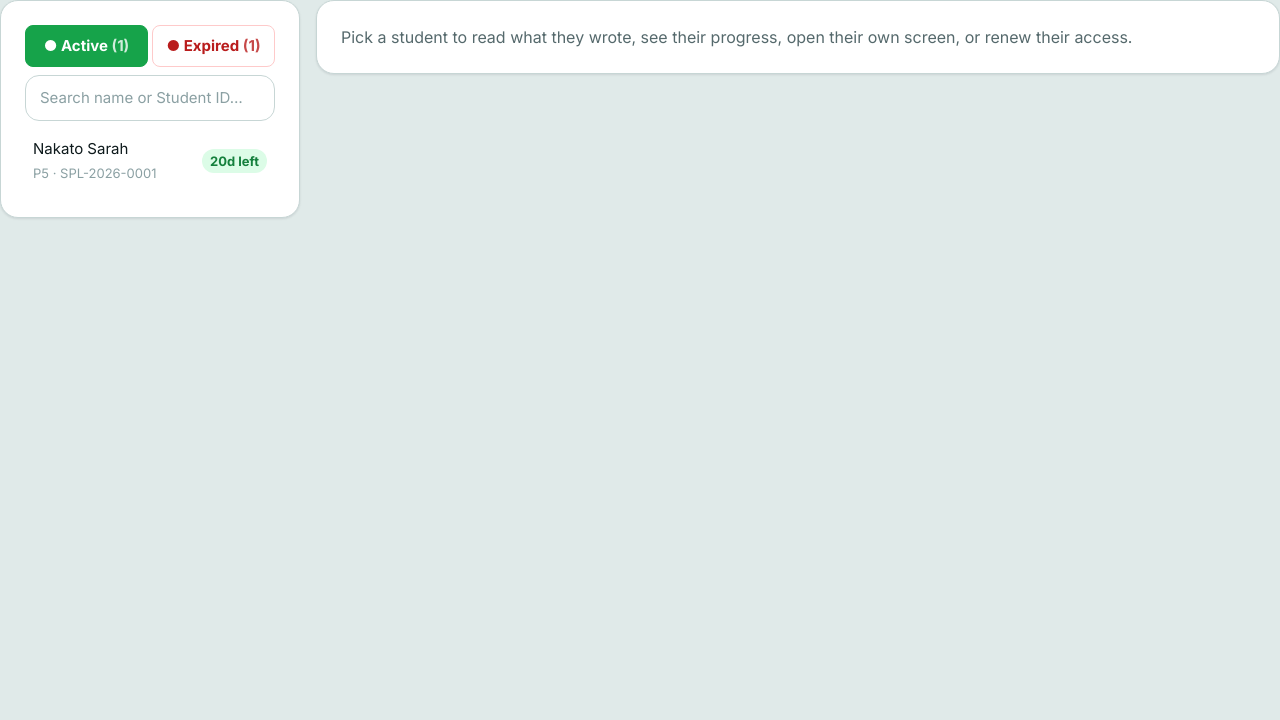
Test case: Students · Active and Deactivated tabs › renews an expired student for the chosen number of days
Click the button "● Expired (1)" at (214, 46), box left=152, top=25, right=275, bottom=67
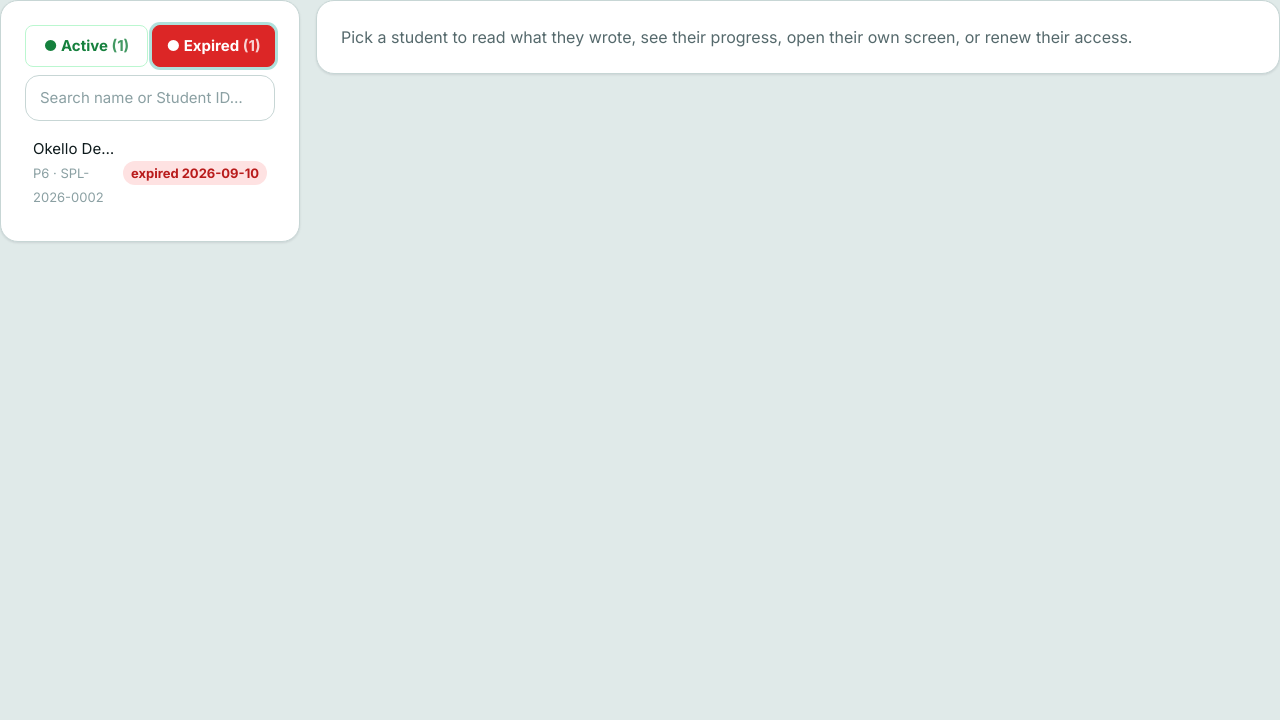
Click the text "Okello Denis" at (76, 149), box left=33, top=137, right=119, bottom=161
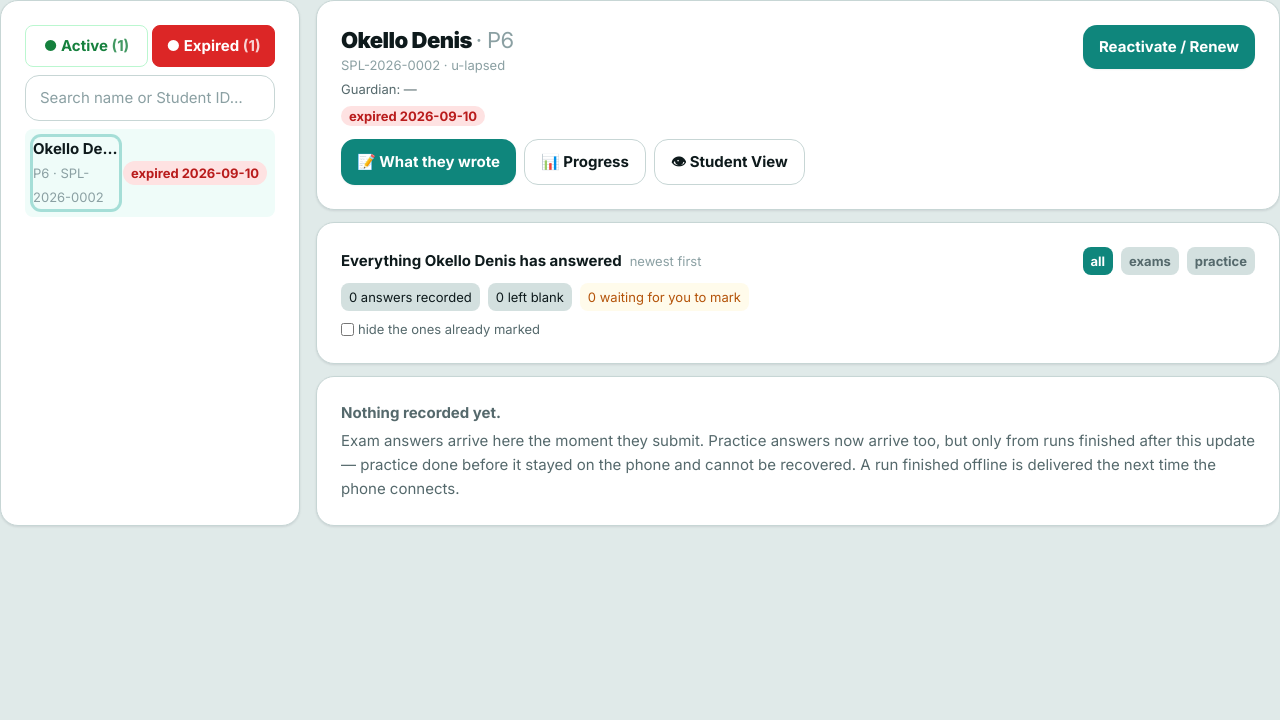
Click the button "Reactivate / Renew" at (1169, 47), box left=1083, top=25, right=1255, bottom=69
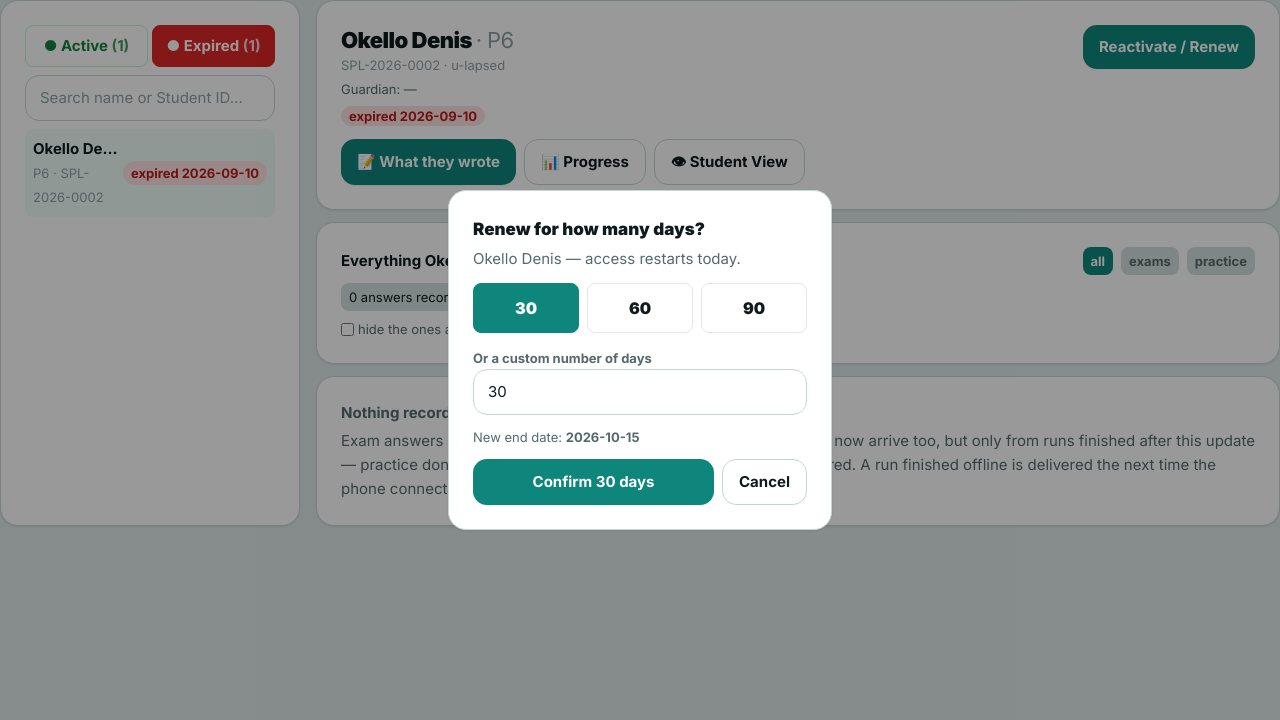
Expected: the heading "Renew for how many days?" is shown, left=473, top=219, right=705, bottom=239
Click the button "60" at (640, 308), box left=587, top=283, right=693, bottom=333
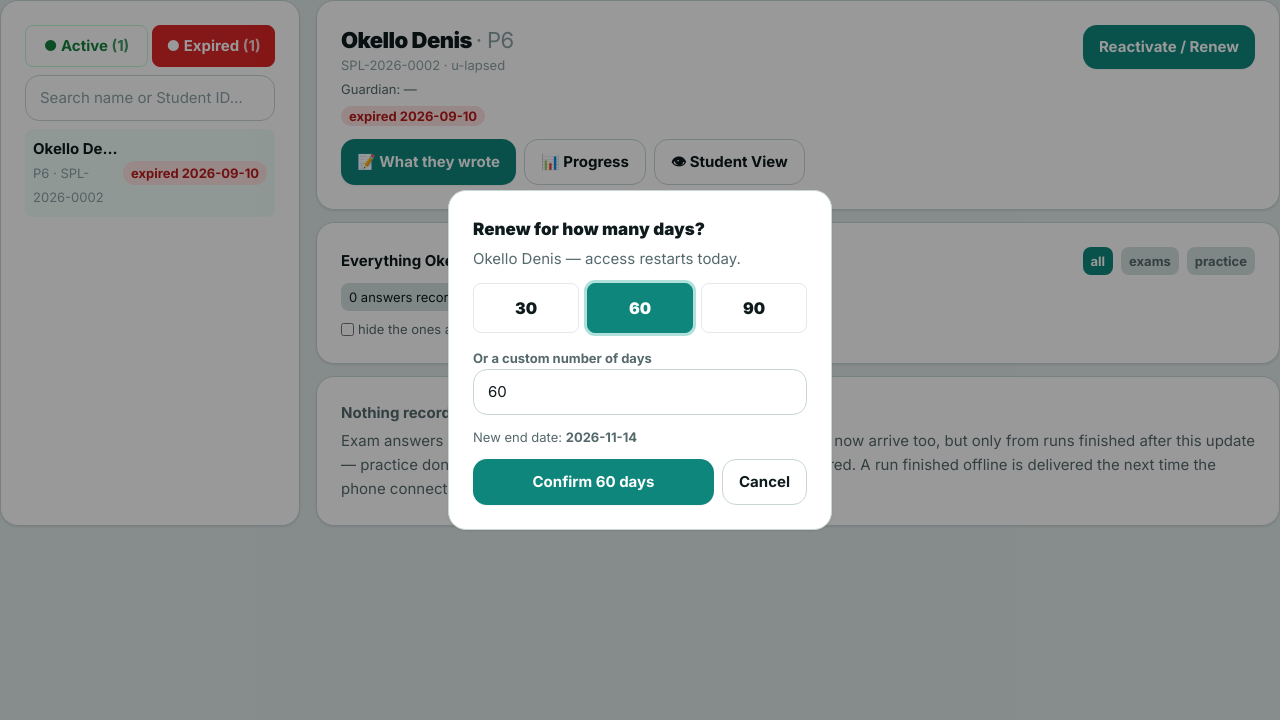
Click the button "Confirm 60 days" at (594, 482), box left=473, top=459, right=714, bottom=505
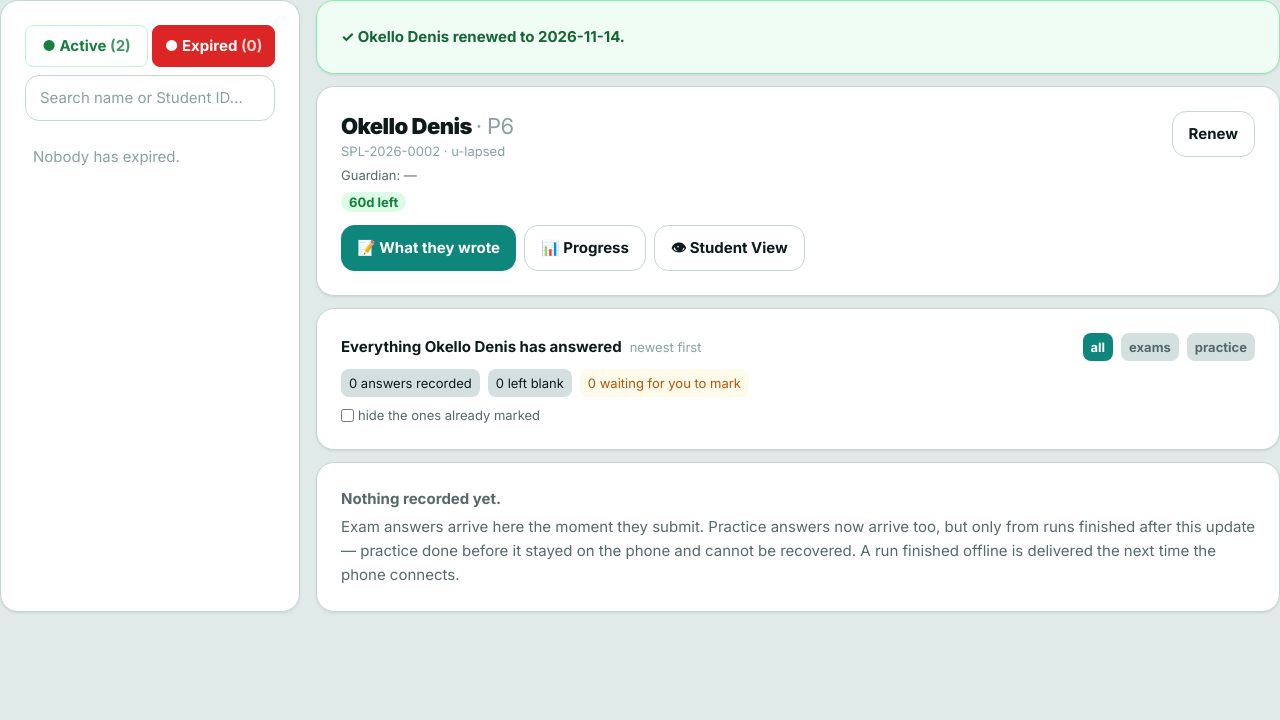
Expected: the text "✓ Okello Denis renewed to 2026-11-14." is shown, left=316, top=0, right=1279, bottom=74
Click the button "● Active (2)" at (86, 46), box left=25, top=25, right=148, bottom=67
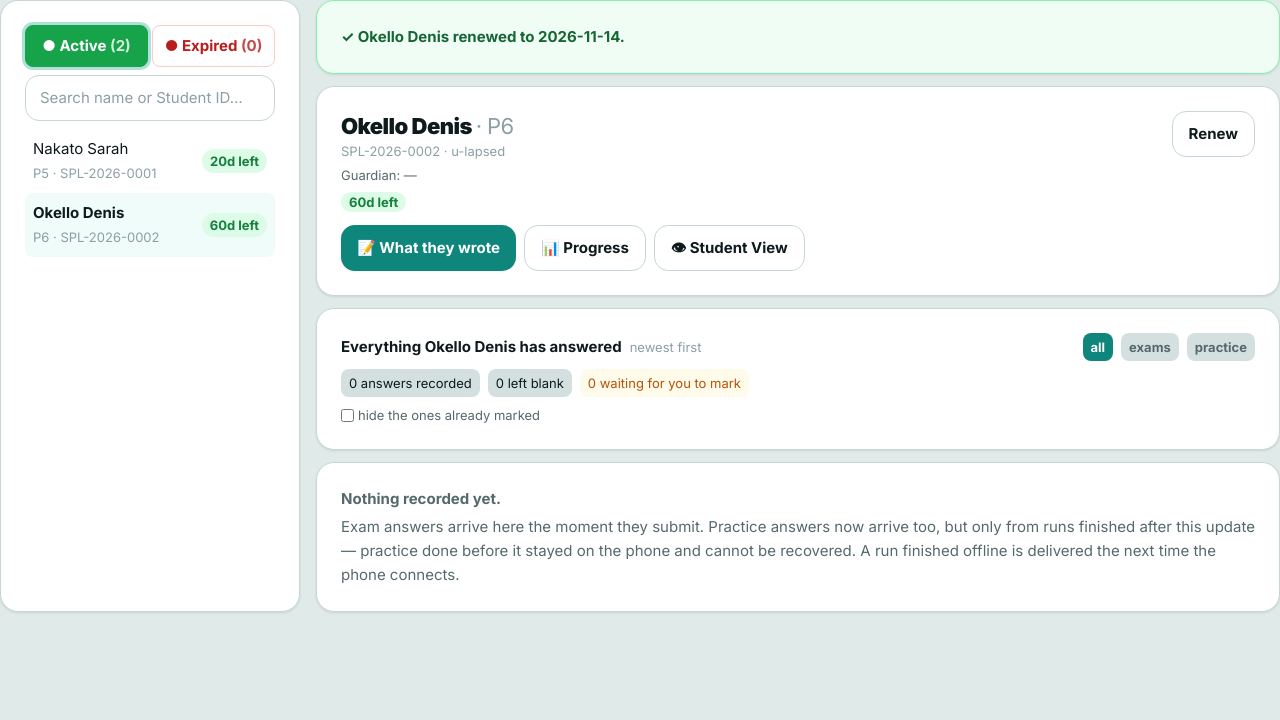
Expected: the button "● Active (2)" is shown, left=25, top=25, right=148, bottom=67
Expected: the text "Okello Denis" is shown, left=33, top=203, right=124, bottom=222
